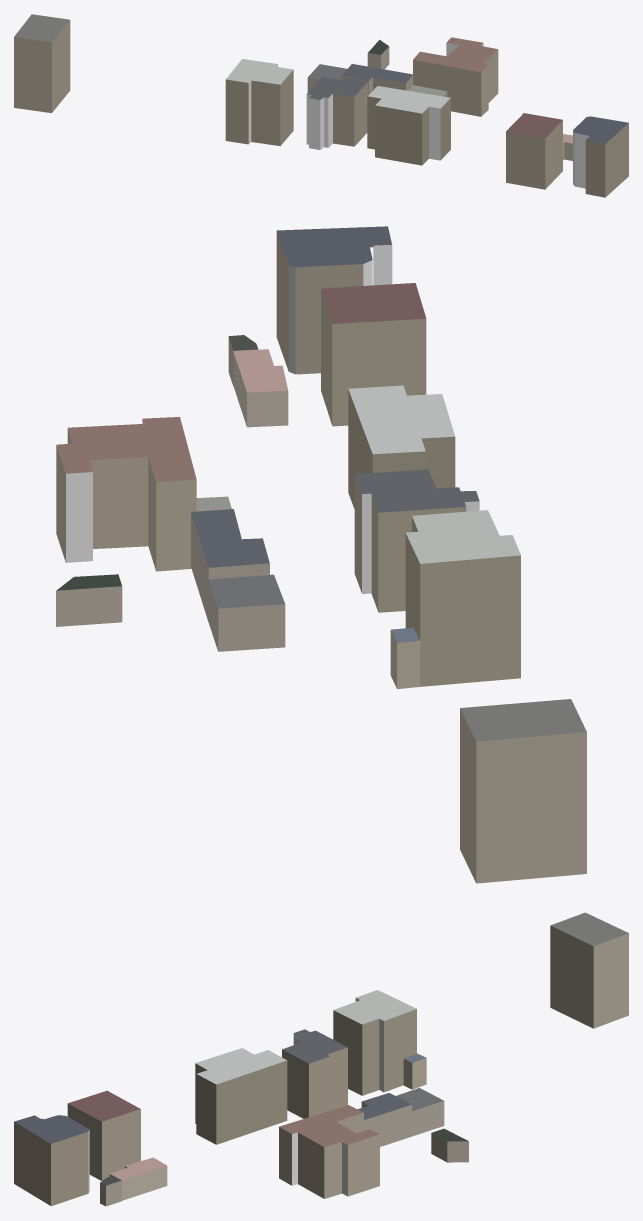
The picture shows the model from 3 angles, top to bottom: view 1: azimuth 30°, elevation 25°; view 2: azimuth 150°, elevation 25°; view 3: azimuth 270°, elevation 25°; orthographic projection. The views are drawn at different scales.
Visible parts, largest first — view 1: tuile; view 2: tuile; view 3: tuile.
Part boxes in pixels (bbox=[...]): tuile: bbox=[14, 14, 628, 197]; tuile: bbox=[56, 226, 586, 883]; tuile: bbox=[14, 912, 628, 1206].
Bounding box in the file's own units: 87.6 × 15.4 × 104.
